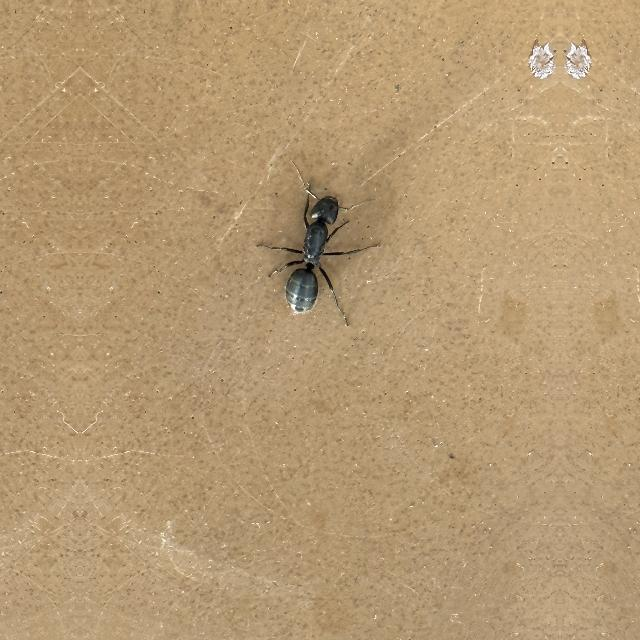Camponotus: (264, 162, 374, 332)
